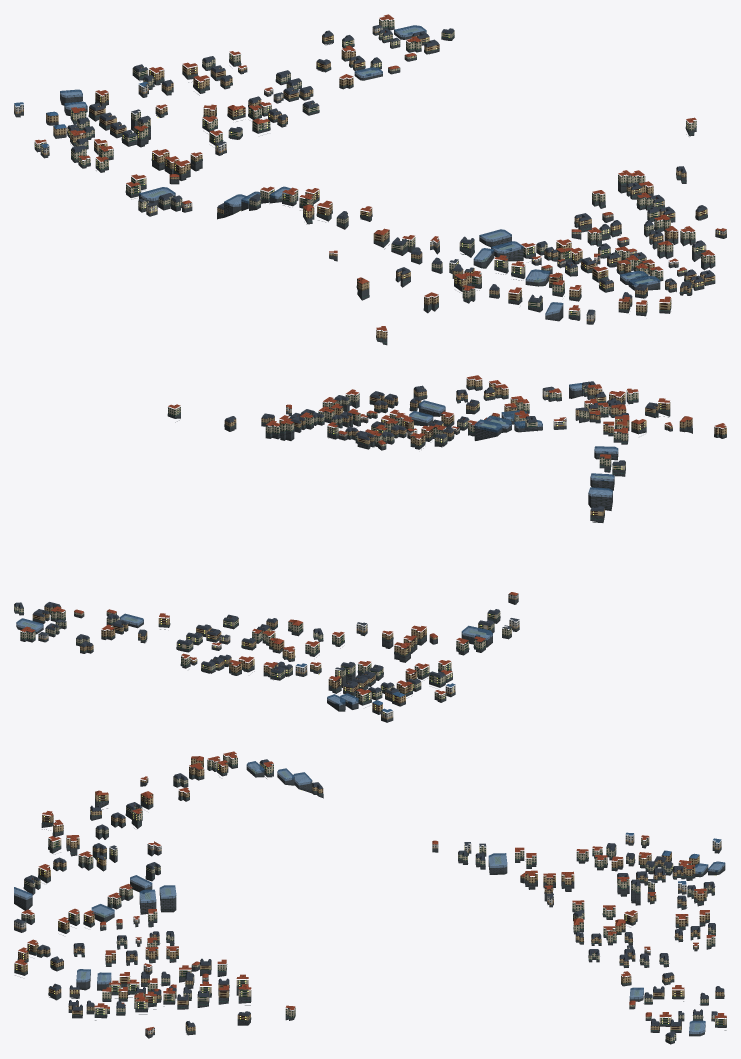
The model's file is osm_buildings_T_W01_S02_Q3.glb.
3 renders of one model, top to bottom at view 1: azimuth 30°, elevation 25°; view 2: azimuth 150°, elevation 25°; view 3: azimuth 270°, elevation 25°, orthographic. The views are drawn at different scales.
Parts seen in each view (by area): view 1: OSM_T_W01_S02_Q3_foundation, OSM_T_W01_S02_Q3_wall_cream_stucco, OSM_T_W01_S02_Q3_wall_french_ochre, OSM_T_W01_S02_Q3_roof_terracotta, OSM_T_W01_S02_Q3_roof_mansard_slate, OSM_T_W01_S02_Q3_greenhouse_blend, OSM_T_W01_S02_Q3_roof_mansard_deck, OSM_T_W01_S02_Q3_roof_mint_metal, OSM_T_W01_S02_Q3_trim_cornice, OSM_T_W01_S02_Q3_balcony_railing, OSM_T_W01_S02_Q3_wall_pastel_sand; view 2: OSM_T_W01_S02_Q3_foundation, OSM_T_W01_S02_Q3_wall_french_ochre, OSM_T_W01_S02_Q3_wall_cream_stucco, OSM_T_W01_S02_Q3_roof_terracotta, OSM_T_W01_S02_Q3_roof_mansard_slate, OSM_T_W01_S02_Q3_greenhouse_blend, OSM_T_W01_S02_Q3_roof_mansard_deck, OSM_T_W01_S02_Q3_roof_mint_metal, OSM_T_W01_S02_Q3_trim_cornice, OSM_T_W01_S02_Q3_wall_pastel_sand, OSM_T_W01_S02_Q3_balcony_railing; view 3: OSM_T_W01_S02_Q3_foundation, OSM_T_W01_S02_Q3_wall_french_ochre, OSM_T_W01_S02_Q3_wall_cream_stucco, OSM_T_W01_S02_Q3_roof_terracotta, OSM_T_W01_S02_Q3_roof_mansard_slate, OSM_T_W01_S02_Q3_greenhouse_blend, OSM_T_W01_S02_Q3_roof_mansard_deck, OSM_T_W01_S02_Q3_roof_mint_metal, OSM_T_W01_S02_Q3_trim_cornice, OSM_T_W01_S02_Q3_balcony_railing, OSM_T_W01_S02_Q3_wall_pastel_sand.
Part boxes in pixels (bbox=[...]): OSM_T_W01_S02_Q3_foundation: bbox=[14, 27, 726, 345]; OSM_T_W01_S02_Q3_wall_cream_stucco: bbox=[34, 19, 715, 315]; OSM_T_W01_S02_Q3_wall_french_ochre: bbox=[46, 35, 715, 338]; OSM_T_W01_S02_Q3_roof_terracotta: bbox=[35, 14, 726, 330]; OSM_T_W01_S02_Q3_roof_mansard_slate: bbox=[67, 25, 714, 314]; OSM_T_W01_S02_Q3_greenhouse_blend: bbox=[60, 25, 660, 315]; OSM_T_W01_S02_Q3_roof_mansard_deck: bbox=[61, 28, 713, 313]; OSM_T_W01_S02_Q3_roof_mint_metal: bbox=[67, 26, 714, 342]; OSM_T_W01_S02_Q3_trim_cornice: bbox=[14, 20, 723, 336]; OSM_T_W01_S02_Q3_balcony_railing: bbox=[34, 19, 713, 334]; OSM_T_W01_S02_Q3_wall_pastel_sand: bbox=[14, 27, 726, 321]; OSM_T_W01_S02_Q3_foundation: bbox=[14, 385, 726, 722]; OSM_T_W01_S02_Q3_wall_french_ochre: bbox=[32, 379, 726, 711]; OSM_T_W01_S02_Q3_wall_cream_stucco: bbox=[14, 385, 638, 702]; OSM_T_W01_S02_Q3_roof_terracotta: bbox=[20, 375, 726, 694]; OSM_T_W01_S02_Q3_roof_mansard_slate: bbox=[14, 382, 658, 694]; OSM_T_W01_S02_Q3_greenhouse_blend: bbox=[16, 382, 618, 705]; OSM_T_W01_S02_Q3_roof_mansard_deck: bbox=[15, 381, 656, 705]; OSM_T_W01_S02_Q3_roof_mint_metal: bbox=[14, 385, 726, 703]; OSM_T_W01_S02_Q3_trim_cornice: bbox=[15, 379, 726, 712]; OSM_T_W01_S02_Q3_wall_pastel_sand: bbox=[38, 389, 566, 719]; OSM_T_W01_S02_Q3_balcony_railing: bbox=[22, 378, 718, 699]; OSM_T_W01_S02_Q3_foundation: bbox=[14, 763, 726, 1044]; OSM_T_W01_S02_Q3_wall_french_ochre: bbox=[14, 758, 724, 1031]; OSM_T_W01_S02_Q3_wall_cream_stucco: bbox=[21, 754, 726, 1041]; OSM_T_W01_S02_Q3_roof_terracotta: bbox=[15, 751, 726, 1030]; OSM_T_W01_S02_Q3_roof_mansard_slate: bbox=[14, 760, 724, 1037]; OSM_T_W01_S02_Q3_greenhouse_blend: bbox=[14, 761, 725, 1033]; OSM_T_W01_S02_Q3_roof_mansard_deck: bbox=[17, 759, 723, 1034]; OSM_T_W01_S02_Q3_roof_mint_metal: bbox=[14, 762, 722, 1041]; OSM_T_W01_S02_Q3_trim_cornice: bbox=[15, 756, 726, 1039]; OSM_T_W01_S02_Q3_balcony_railing: bbox=[16, 757, 724, 1034]; OSM_T_W01_S02_Q3_wall_pastel_sand: bbox=[14, 841, 721, 1034].
Bounding box in the file's own units: 723 × 181 × 998.
16 materials, 16 textured.
